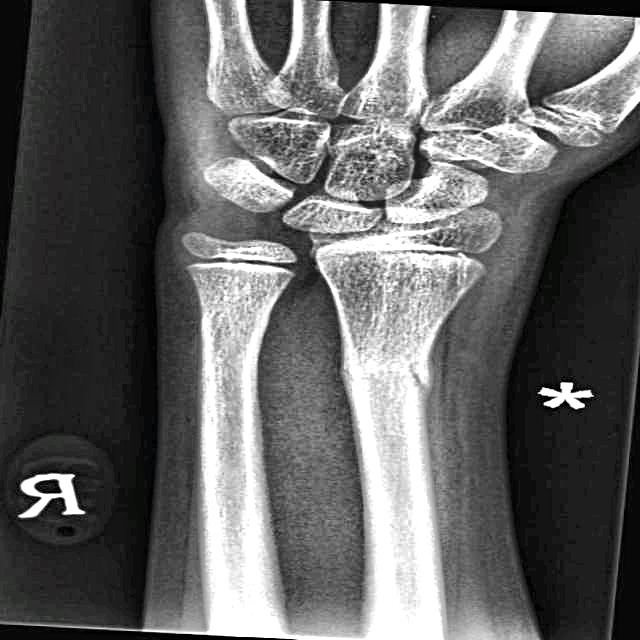Greenstick: (369, 337, 474, 427)
